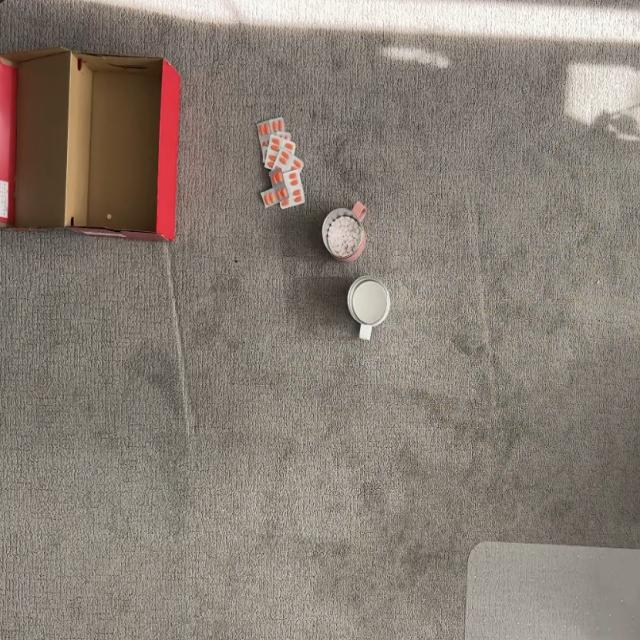IBC: (348, 277, 388, 339), (323, 203, 365, 261)
